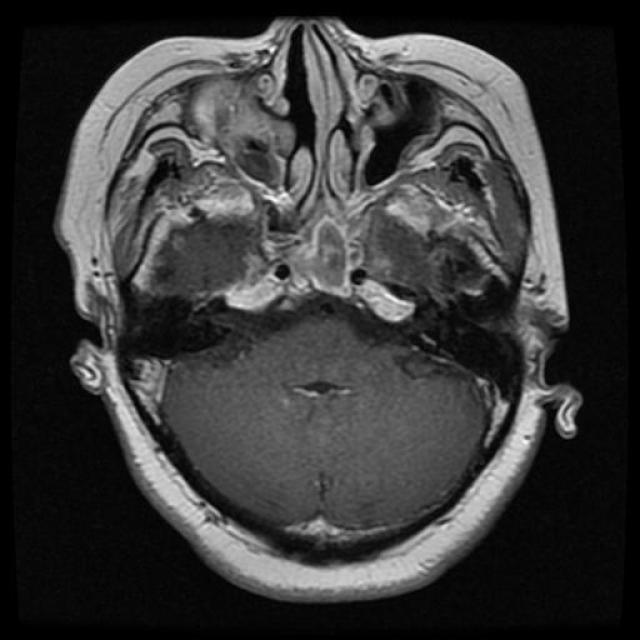pituitary: (211, 270, 425, 328)
